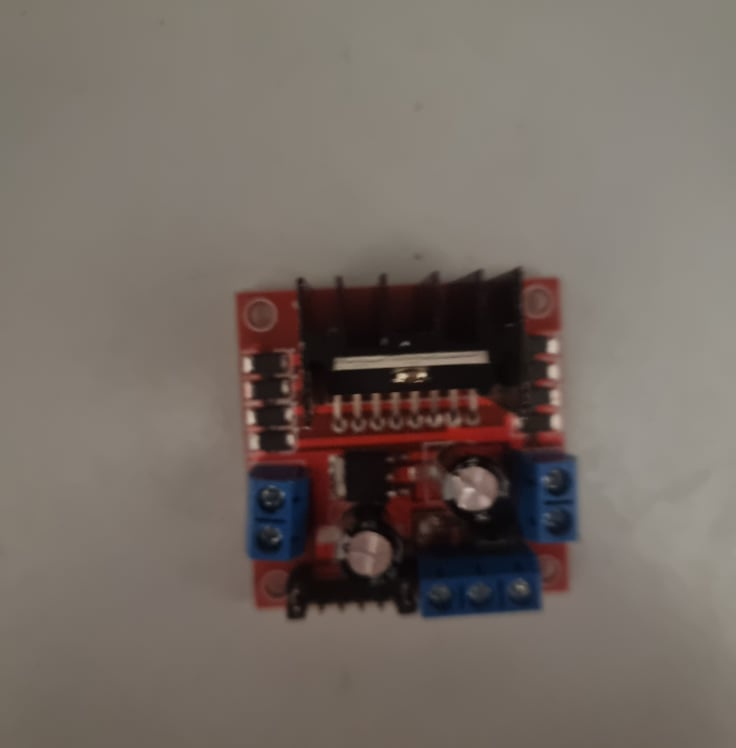MOTOR: (234, 266, 586, 624)
